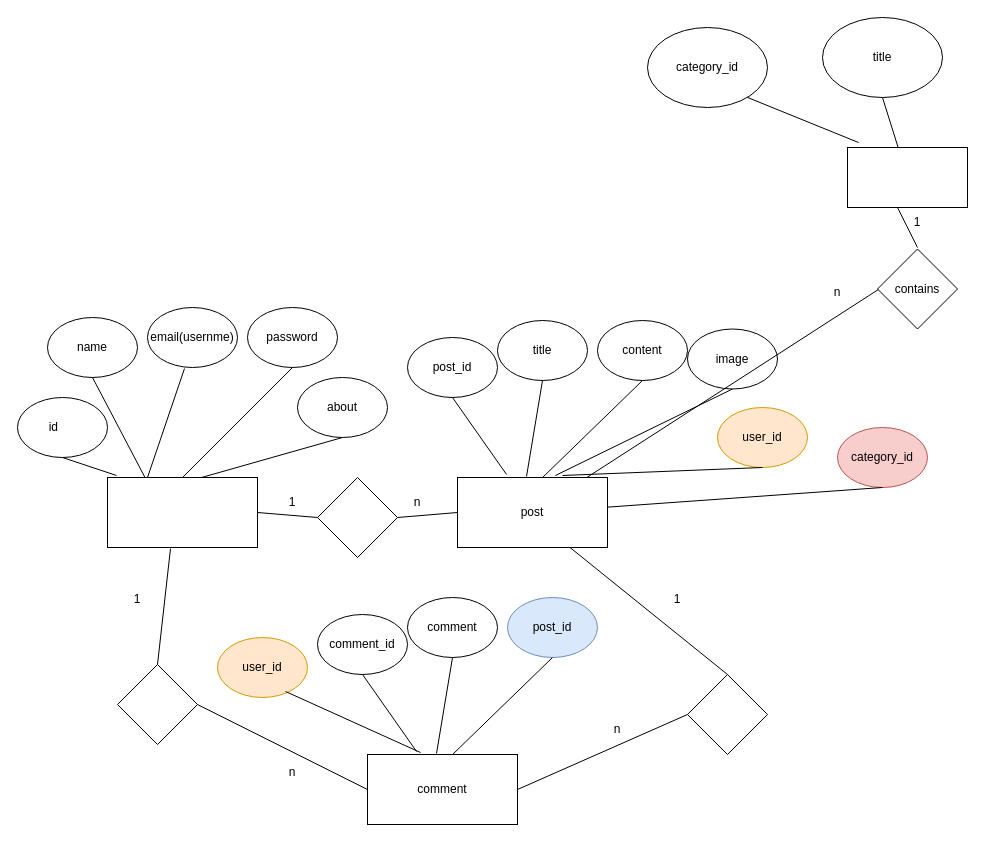
This 985x842 diagram has some shape labels left out. Each missing label, with the centre of its shape:
can create: the point at 357,517
category: the point at 907,177
do: the point at 157,704
have: the point at 727,714
User: the point at 182,512
